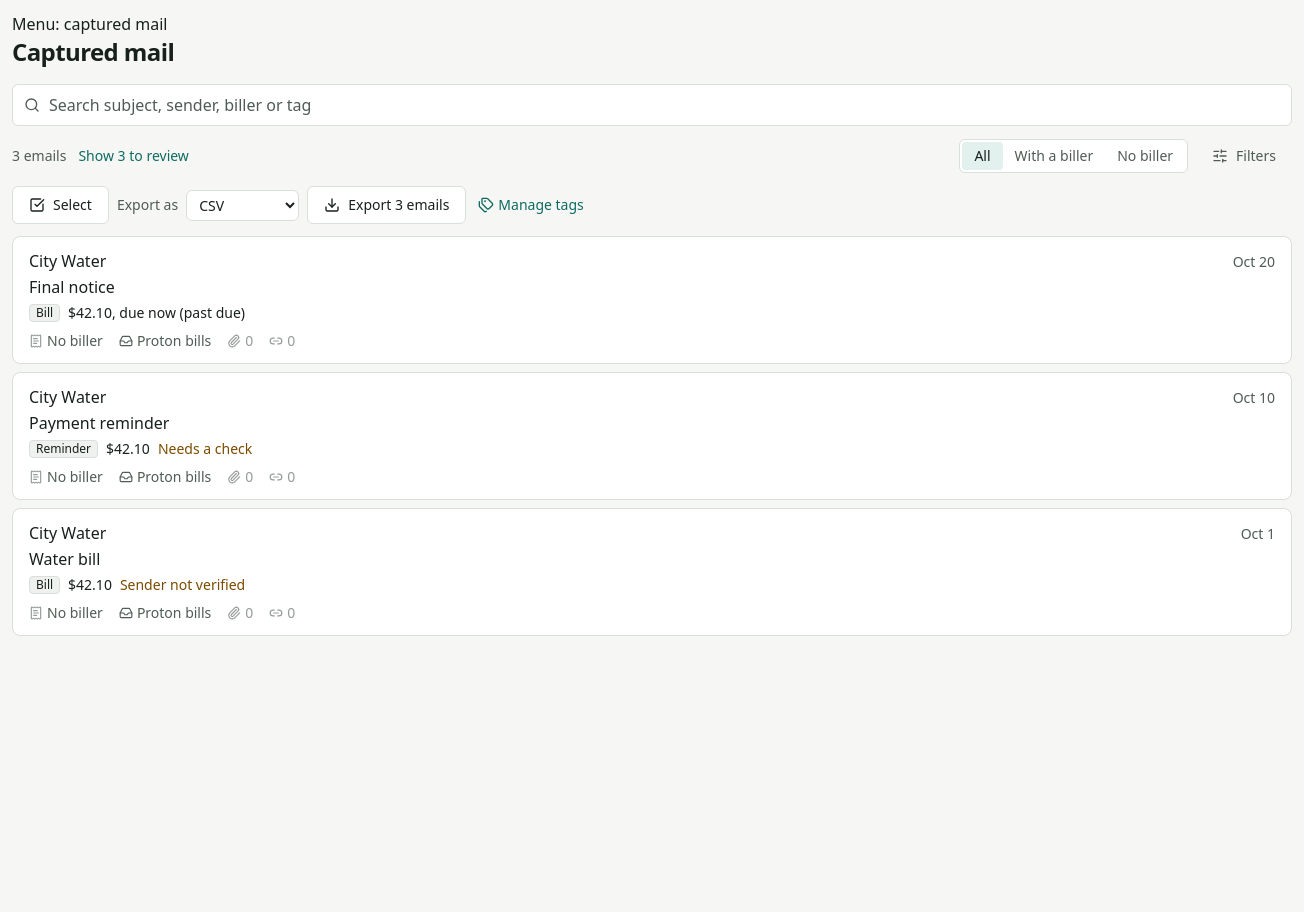
Scenario: the captured-mail list's filters › narrows by kind and the ticks behind Filters, and Clear filters shows everything again
Expected: the text "Water bill" is shown, [29, 548, 100, 570]
Click the button "Filters": (1244, 156) [1196, 138, 1292, 174]
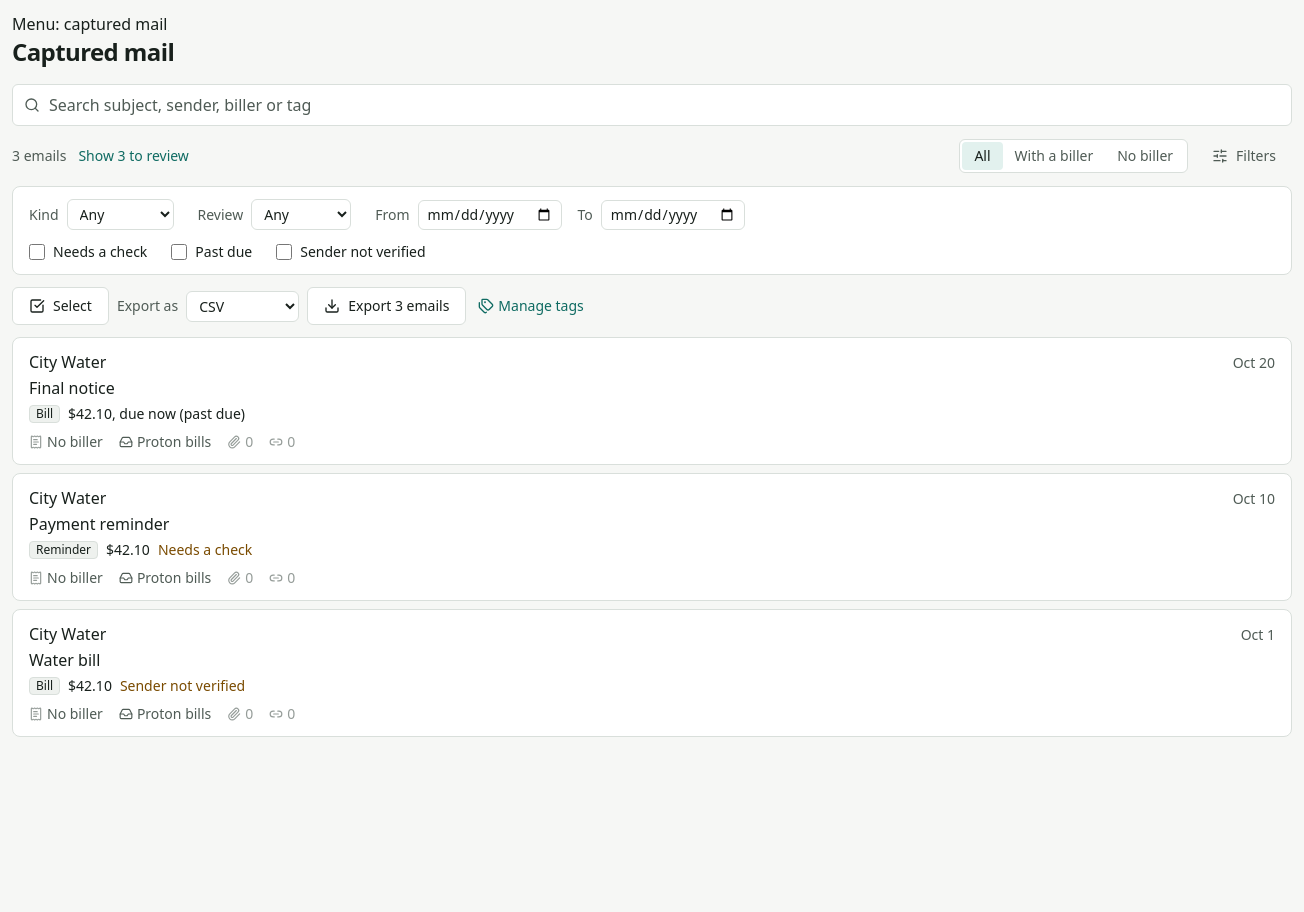
Select "Bill" in the dropdown labelled "Kind": (120, 214) [66, 199, 174, 230]
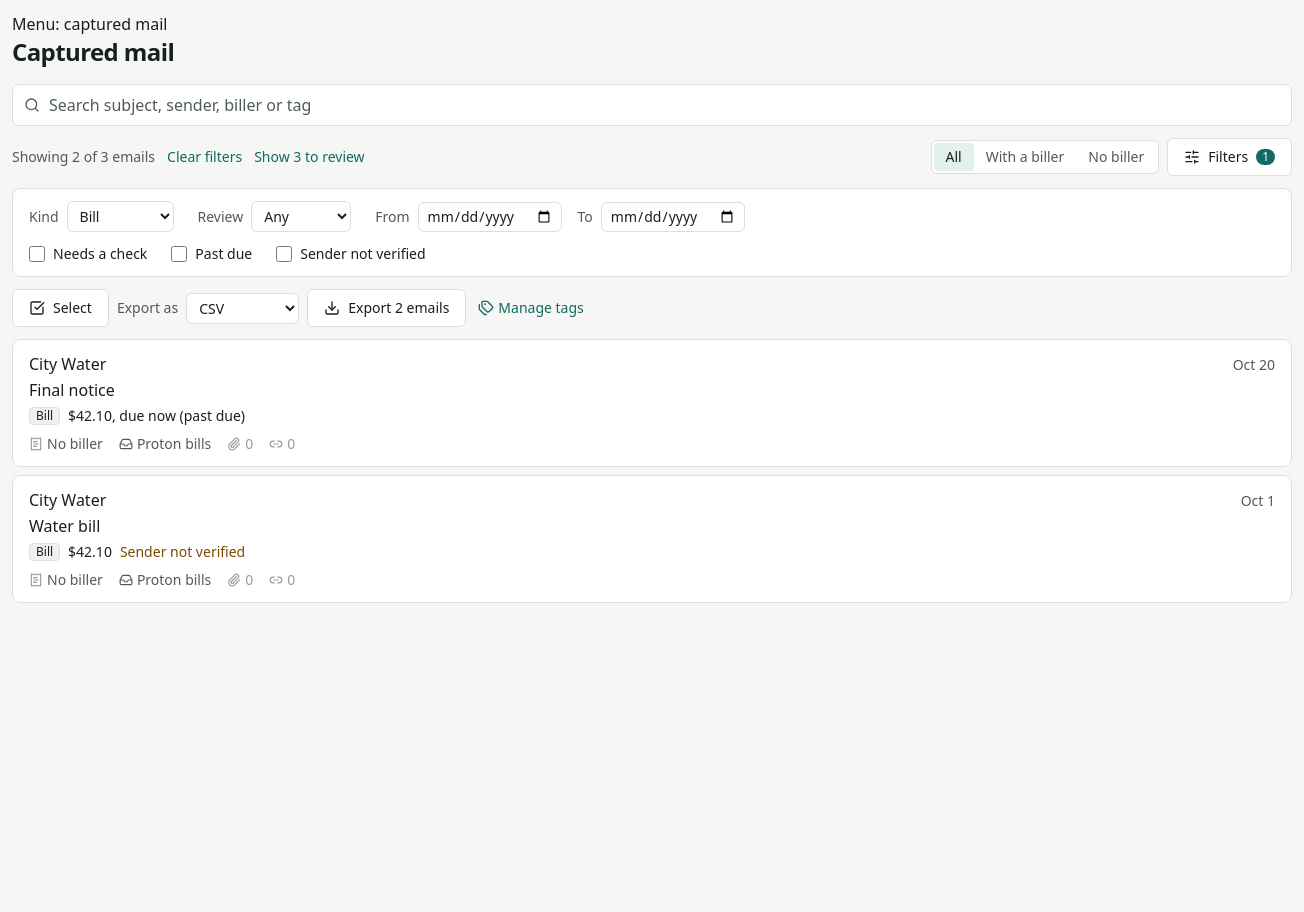
Click the checkbox labelled "Past due": (179, 254) [171, 246, 187, 262]
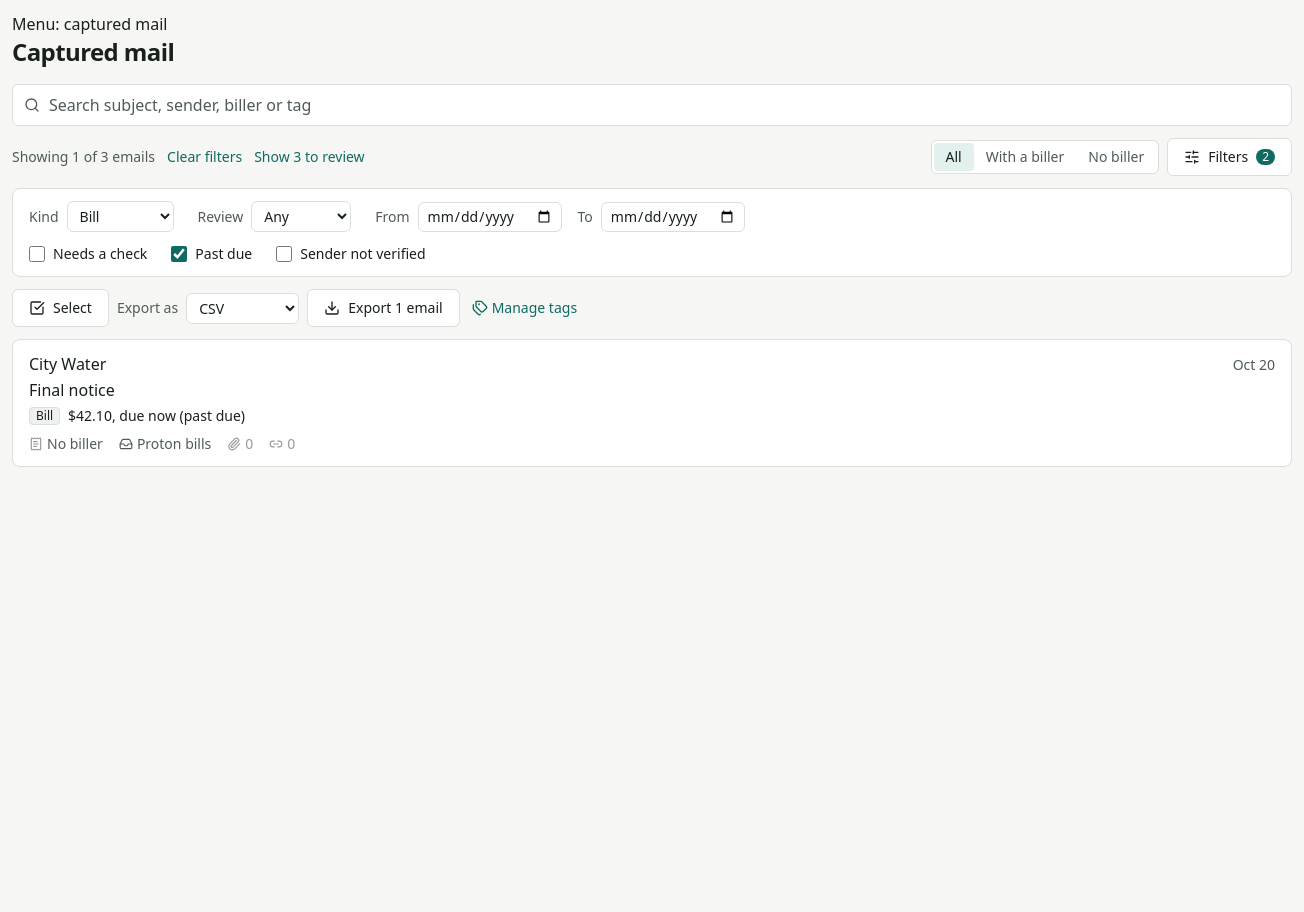
Now the message reads "Showing 1 of 3 emails", box [12, 147, 155, 166]
Now the button with aria-label "Filters, 2 on" shows "2", box [1167, 138, 1292, 176]
Click the checkbox labelled "Needs a check": (37, 254) [29, 246, 45, 262]
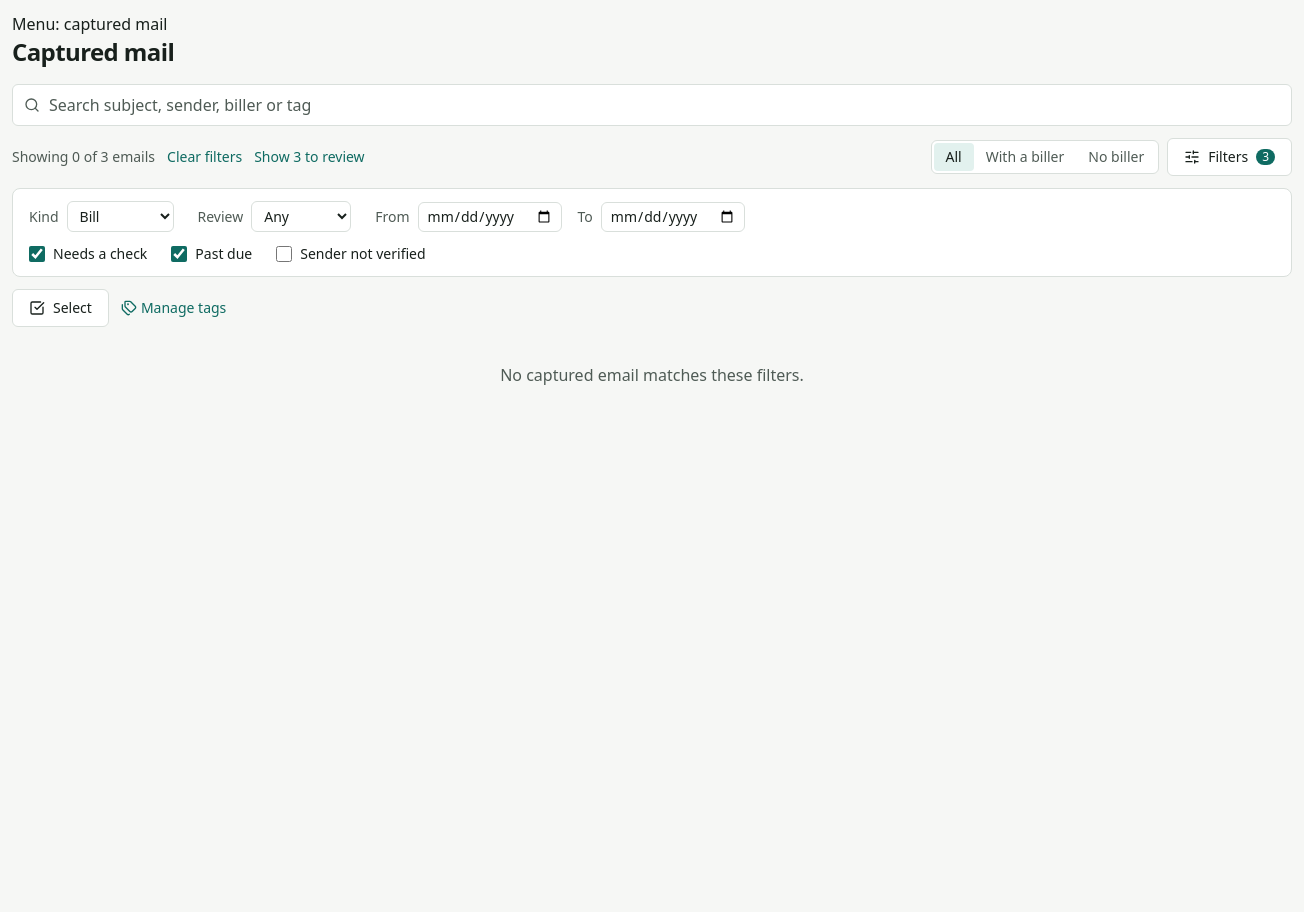
Now the text "No captured email matches these filters." is shown, box [500, 364, 804, 386]
Click the button "Clear filters": (205, 157) [167, 147, 242, 167]
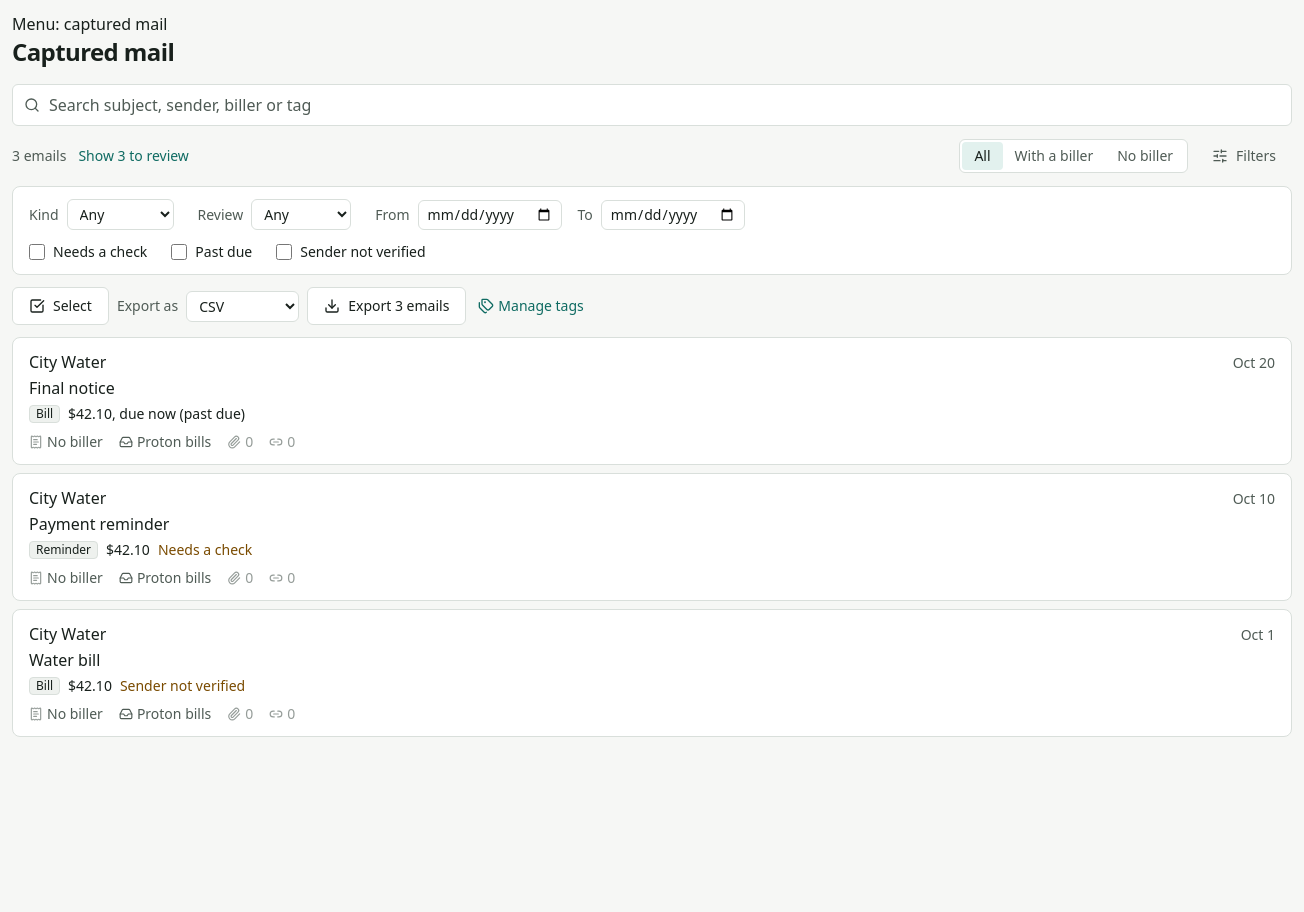
Now the checkbox labelled "Past due" is not checked, box [171, 244, 187, 260]
Now the message reads "3 emails", box [12, 146, 66, 165]
Now the button "Clear filters" is gone
